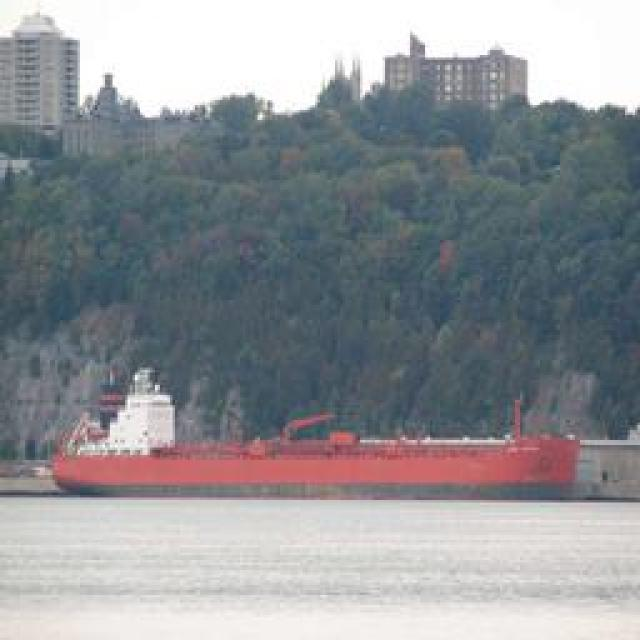CIV_Ship: (52, 399, 586, 499)
